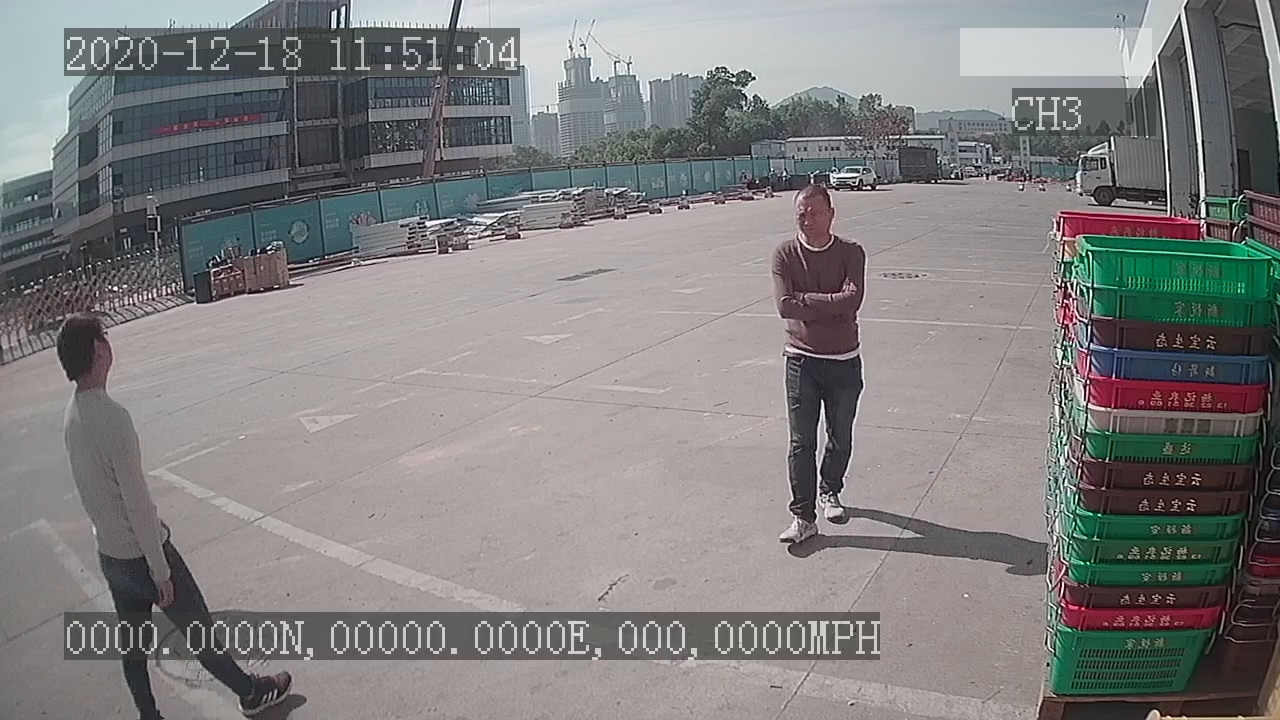person: (761, 179, 874, 552)
